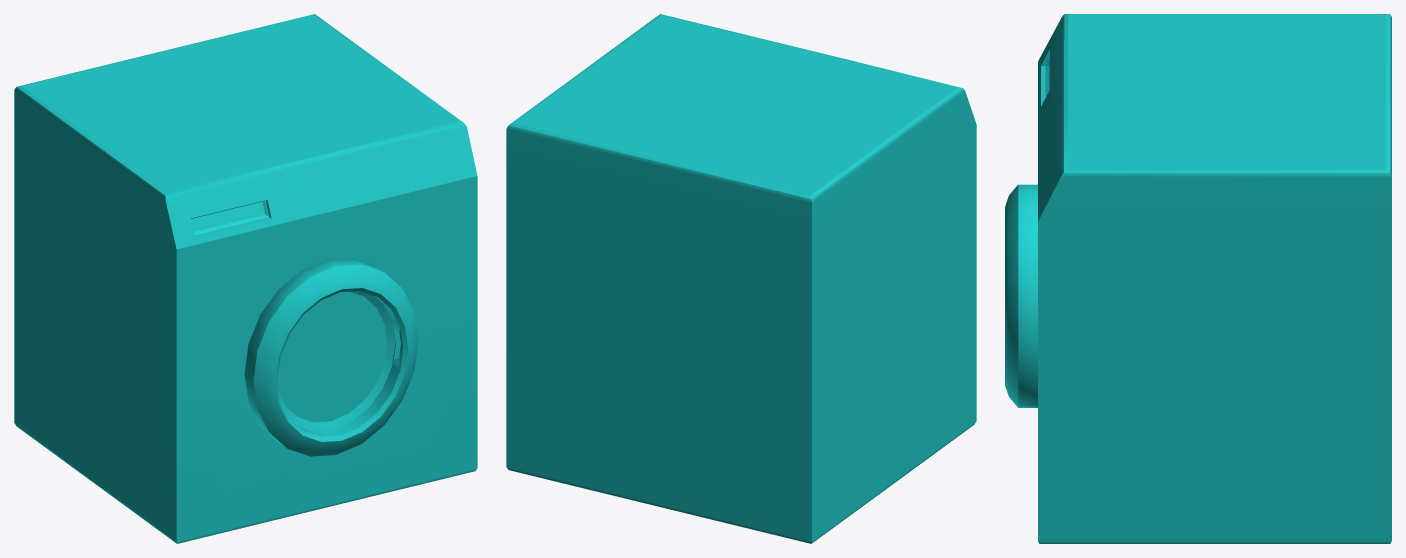
File: lavarropa.fbx
The picture shows the model from 3 angles, left to right: view 1: azimuth 30°, elevation 25°; view 2: azimuth 150°, elevation 25°; view 3: azimuth 270°, elevation 25°; orthographic projection. The views are drawn at different scales.
Parts seen in each view (by area): view 1: Lavadero; view 2: Lavadero; view 3: Lavadero.
Boxes of the visible parts, x1=… form: Lavadero: x1=14, y1=14, x2=477, y2=543; Lavadero: x1=506, y1=14, x2=976, y2=543; Lavadero: x1=1005, y1=14, x2=1391, y2=543.
Bounding box in the file's own units: 0.8861 × 0.9632 × 0.9031.
